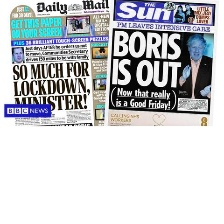news_paper: (104, 0, 219, 128), (6, 1, 122, 126)
